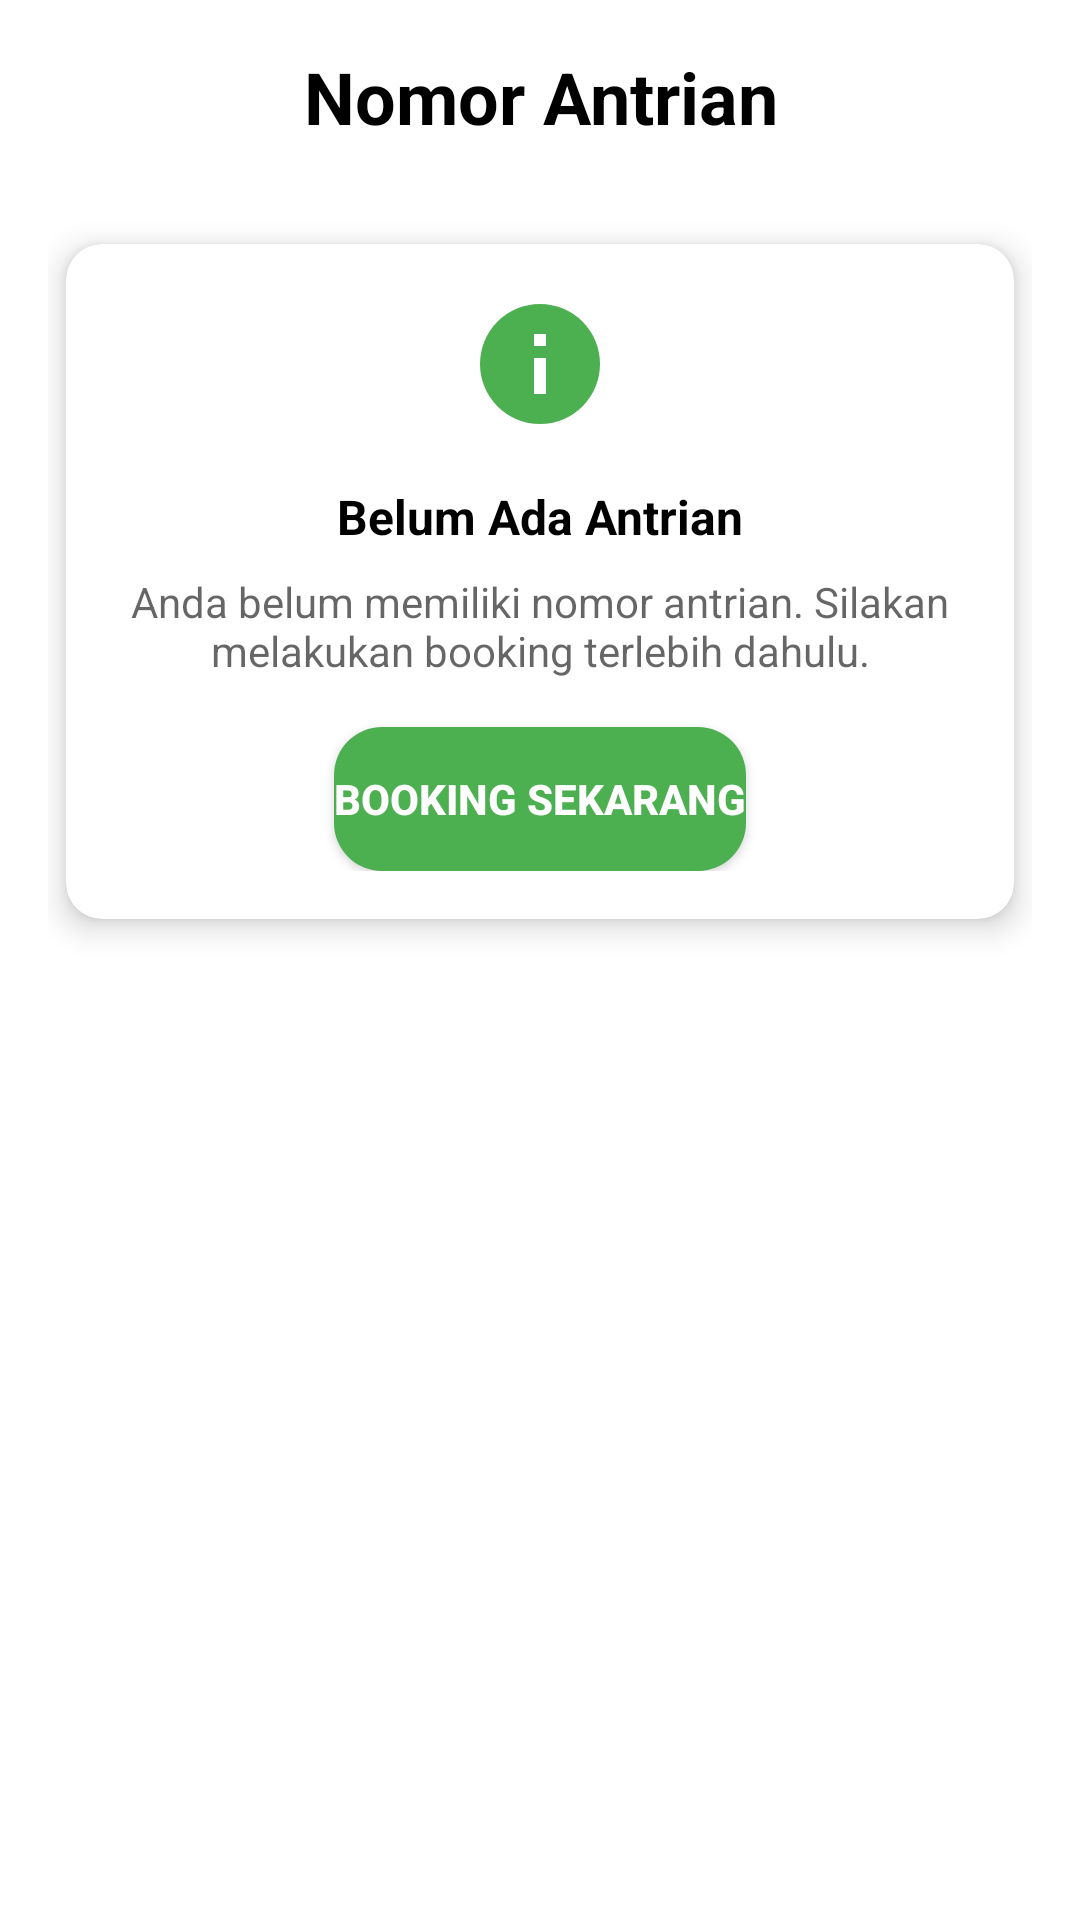

Screen size 1080x1920. Icon name, then its box in pixels as region(x1, y1, x2, y2):
info: region(480, 304, 600, 424)
